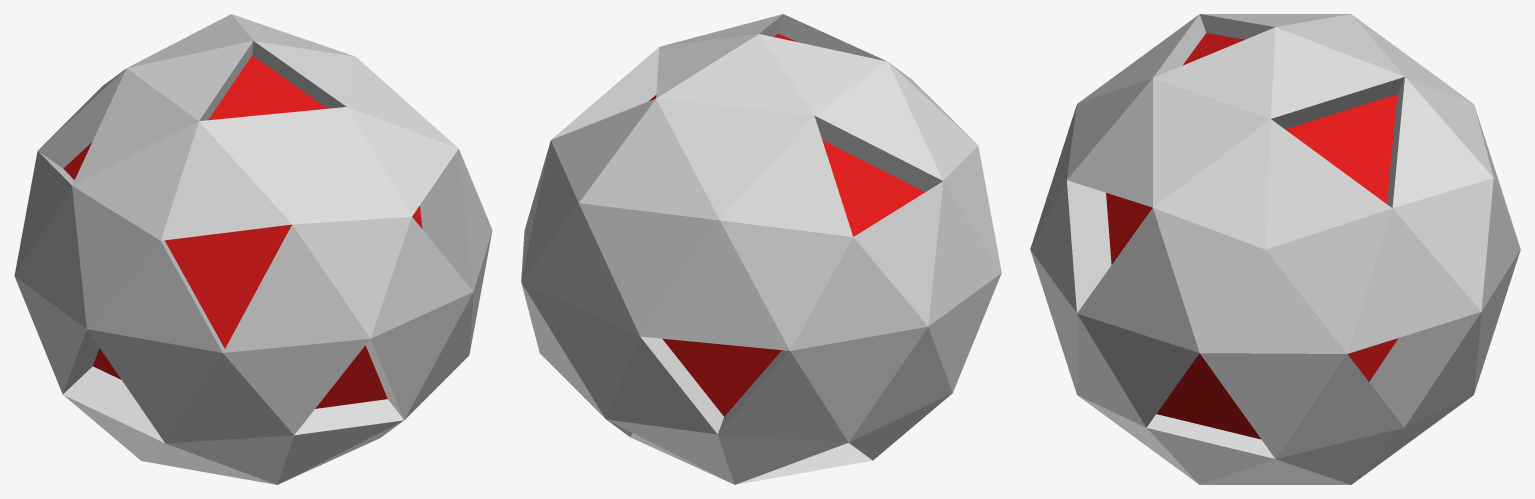
File: asteroide_3.glb
3 renders of one model, left to right at view 1: azimuth 30°, elevation 25°; view 2: azimuth 150°, elevation 25°; view 3: azimuth 270°, elevation 25°, orthographic. The views are drawn at different scales.
Visible parts, largest first — view 1: Icosphere; view 2: Icosphere; view 3: Icosphere.
Boxes of the visible parts, x1,y1,x2,y2 form: Icosphere: [14, 14, 492, 484]; Icosphere: [521, 14, 1001, 484]; Icosphere: [1030, 14, 1520, 484].
Bounding box in the file's own units: 3 × 3 × 3.
